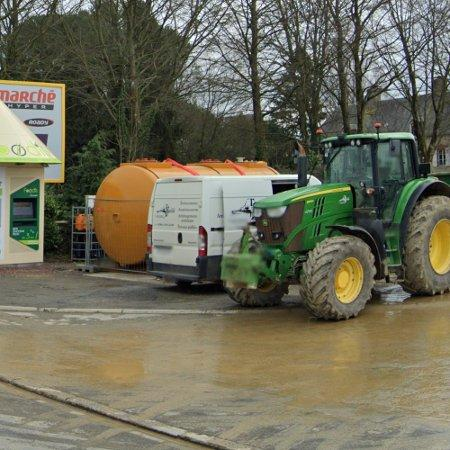tractors: (222, 133, 450, 320)
